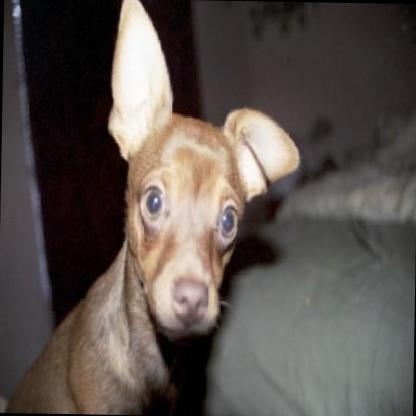miniature_pinscher: (8, 0, 301, 413)
